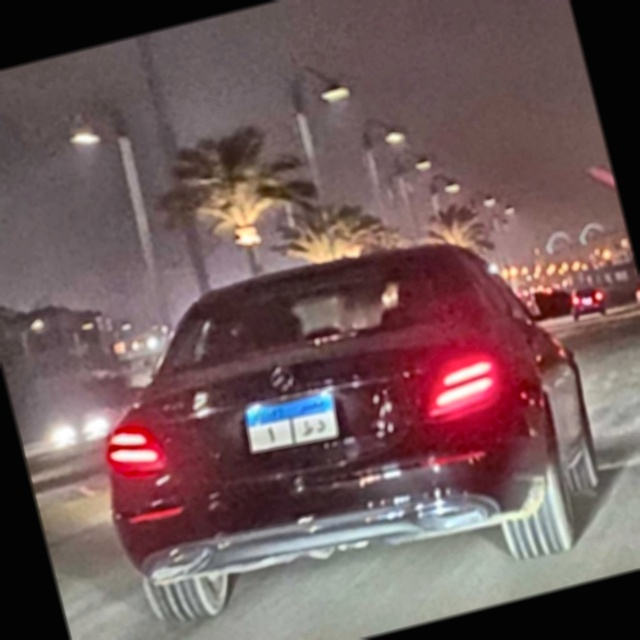License Plate: (237, 383, 349, 458)
